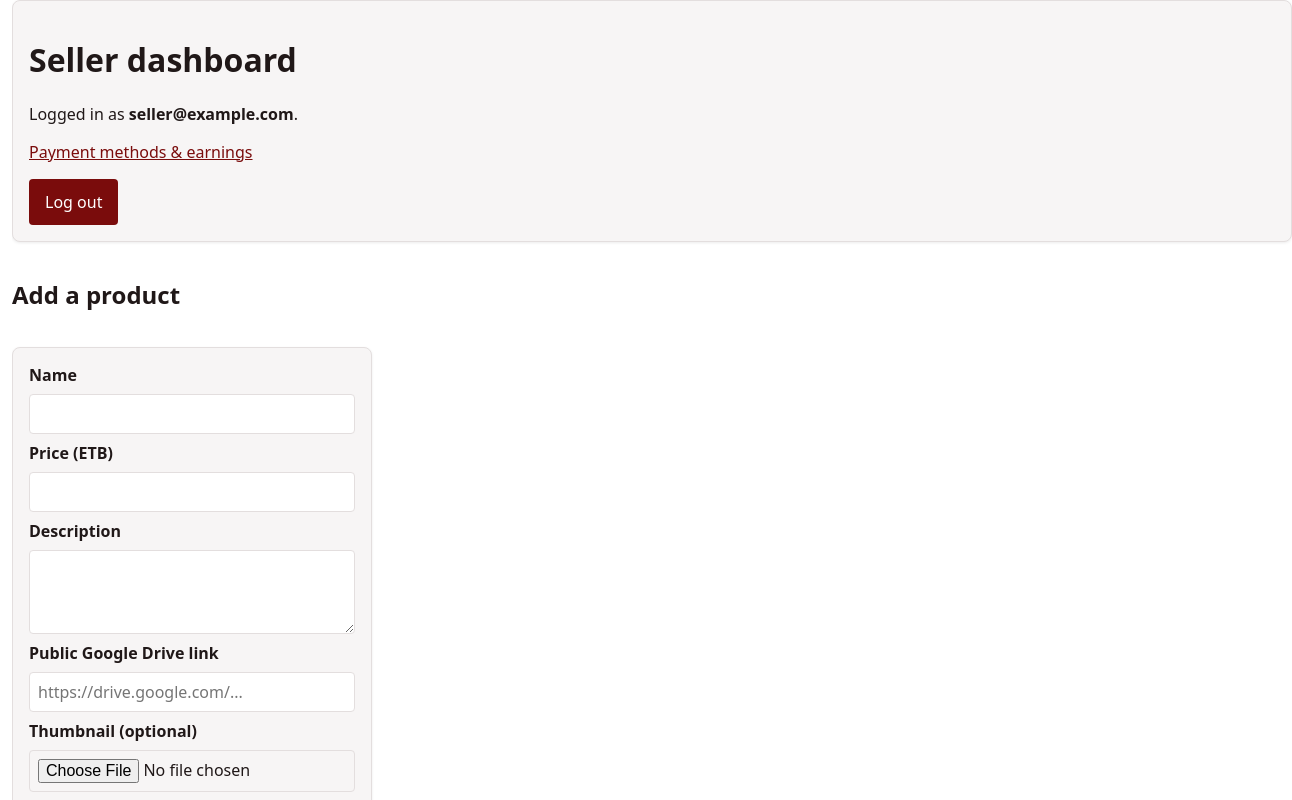
SellerHome › adds a product, prepends it to the list, and clears the form
In the field labelled "Name": (192, 414) top-left (29, 394), bottom-right (355, 434), type "E-book: Learn Amharic"
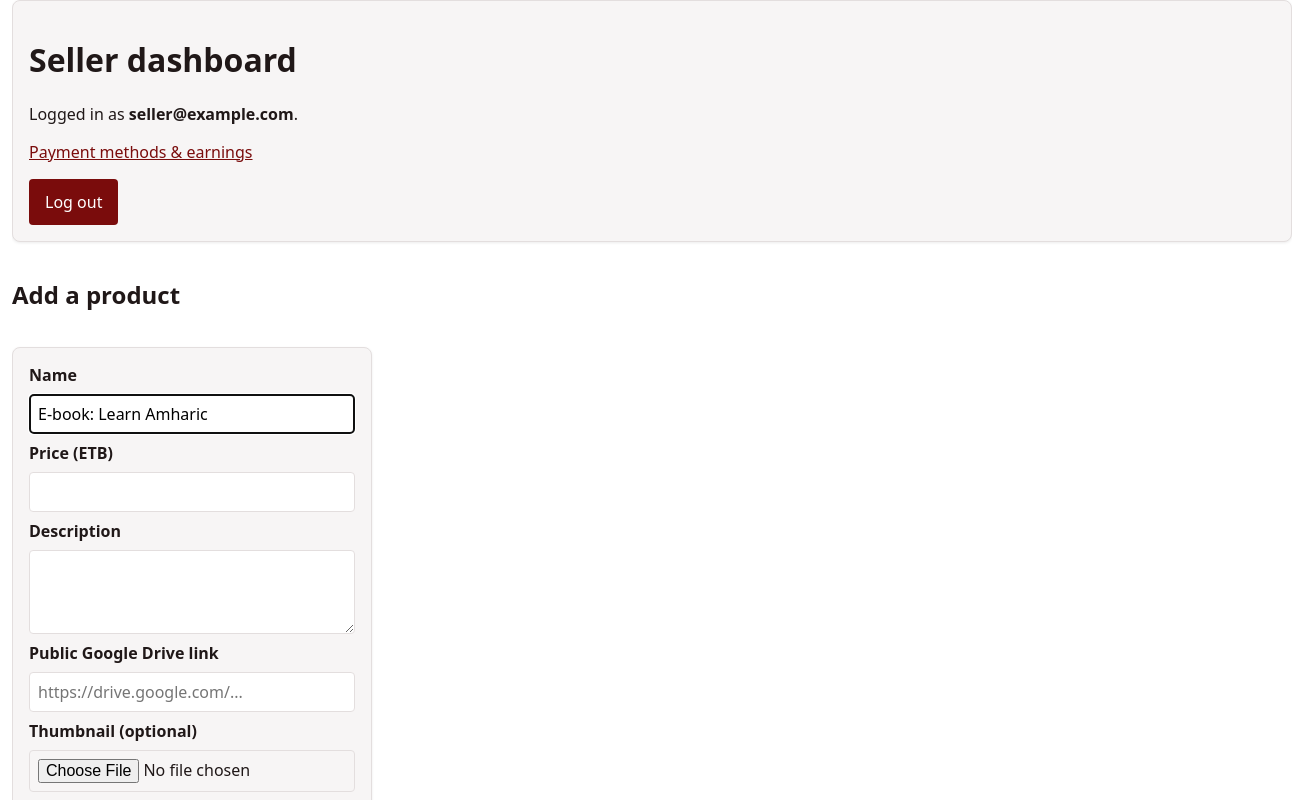
In the number field labelled "Price (ETB)": (192, 492) top-left (29, 472), bottom-right (355, 512), type "150"
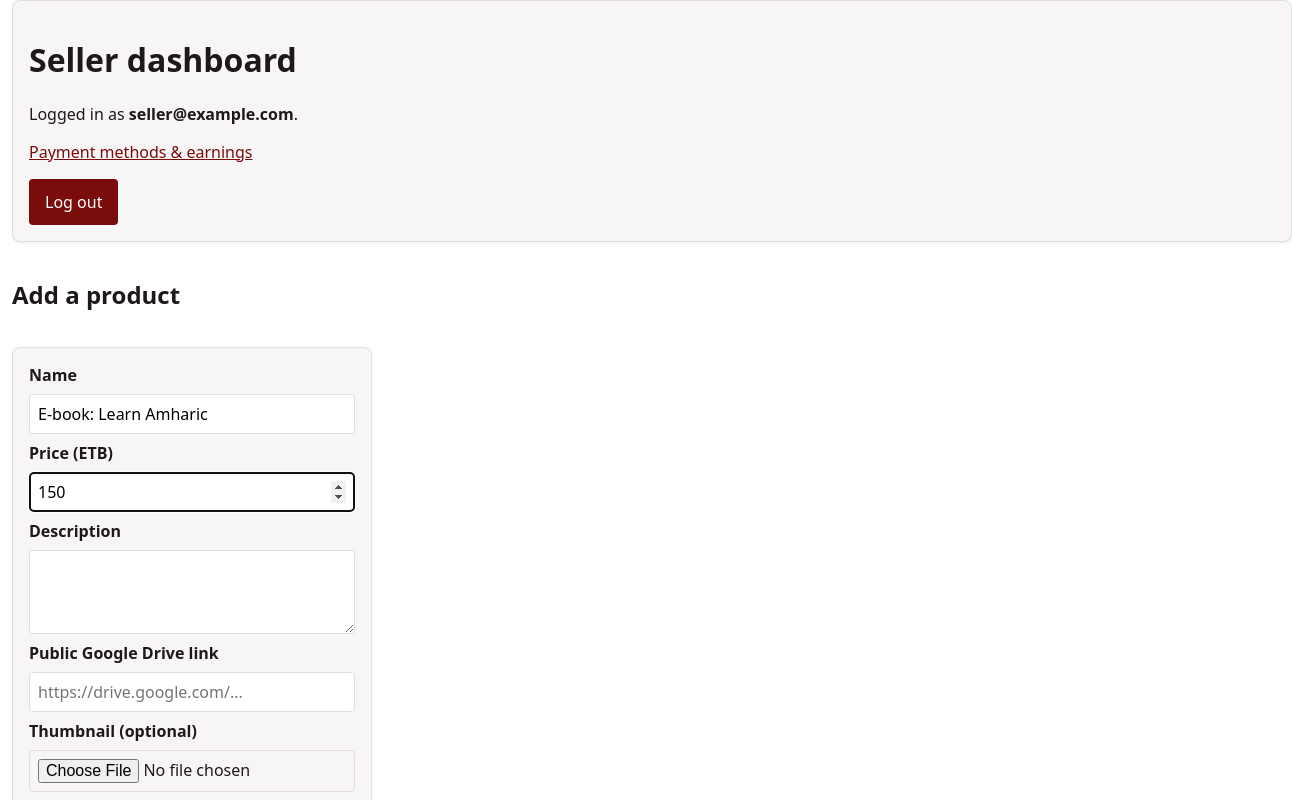
In the text box labelled "Description": (192, 592) top-left (29, 550), bottom-right (355, 634), type "A beginner's guide."
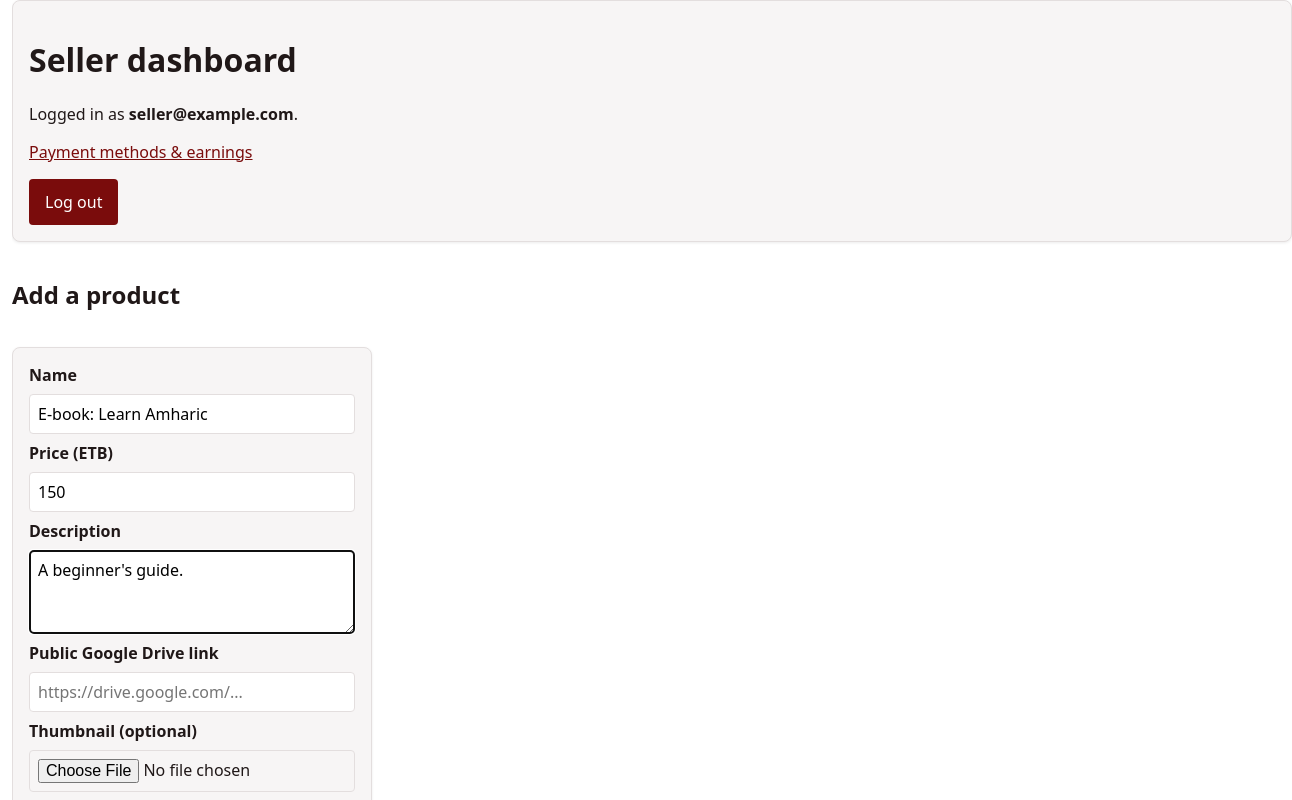
In the field labelled "Public Google Drive link": (192, 692) top-left (29, 672), bottom-right (355, 712), type "https://drive.google.com/file/d/abc"
(page scrolled)
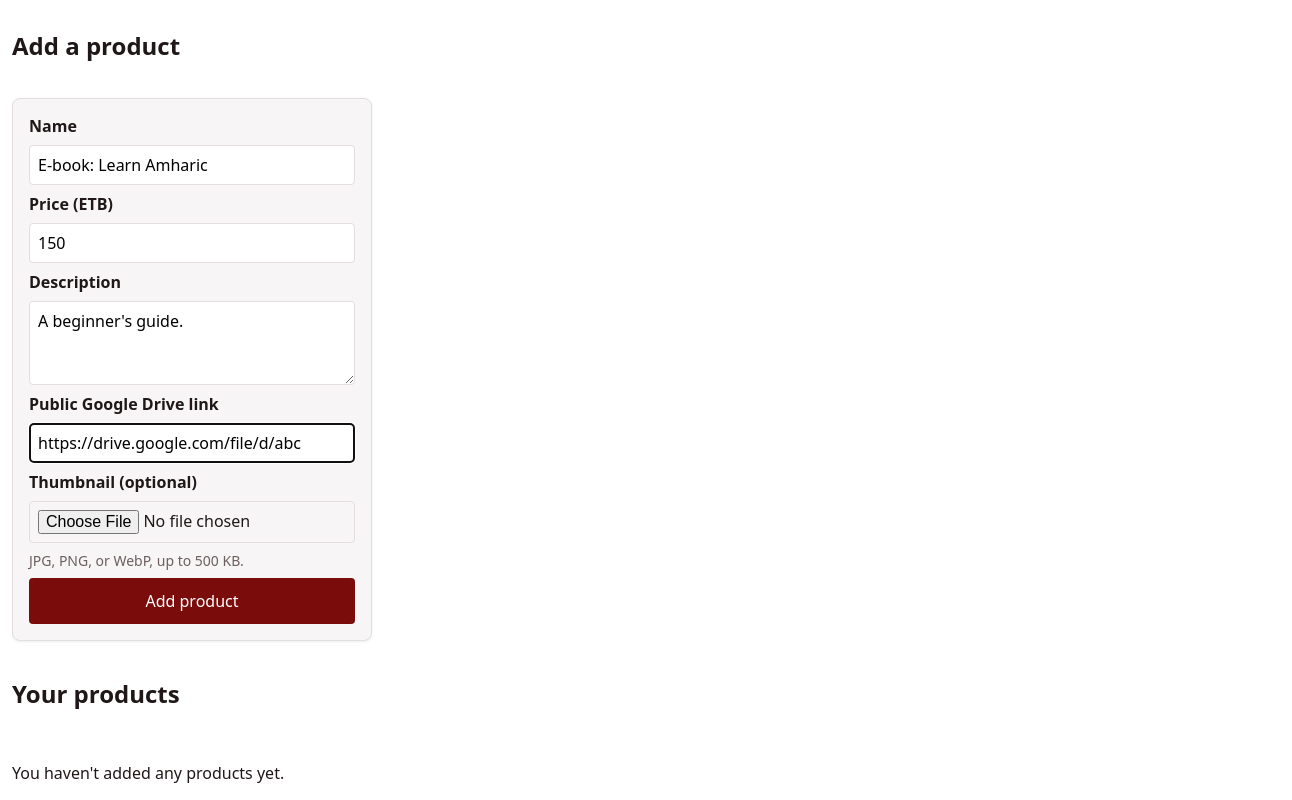
Click the button "Add product": (192, 601) top-left (29, 578), bottom-right (355, 624)
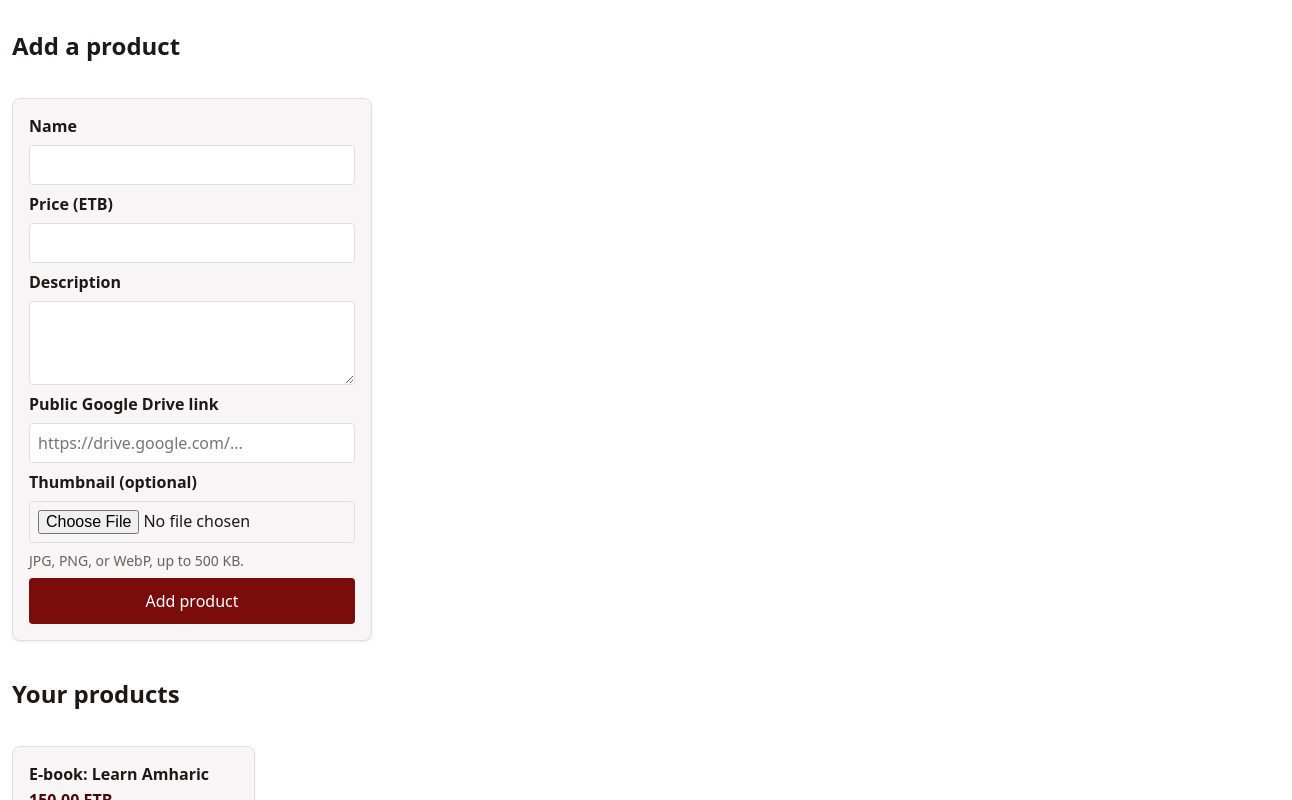
Expected: the text "E-book: Learn Amharic" is shown, top-left (29, 762), bottom-right (238, 784)
Expected: the field labelled "Name" is empty, top-left (29, 145), bottom-right (355, 185)
Expected: the field labelled "Public Google Drive link" is empty, top-left (29, 423), bottom-right (355, 463)
